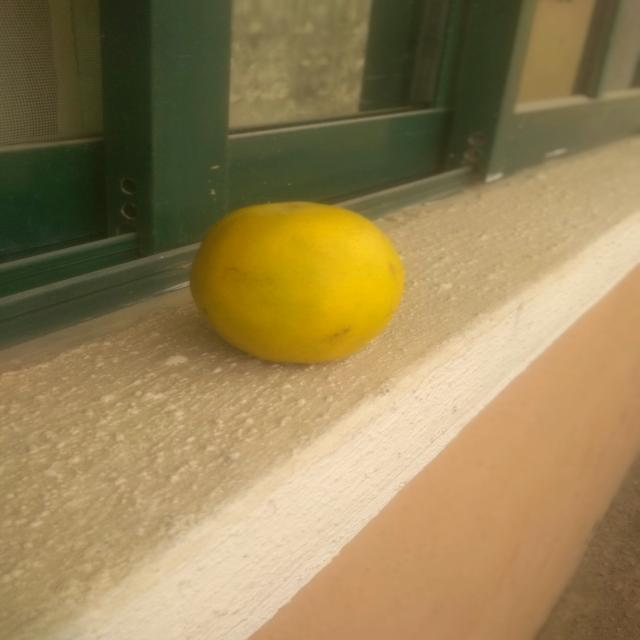Ripe orange: (194, 198, 402, 373)
